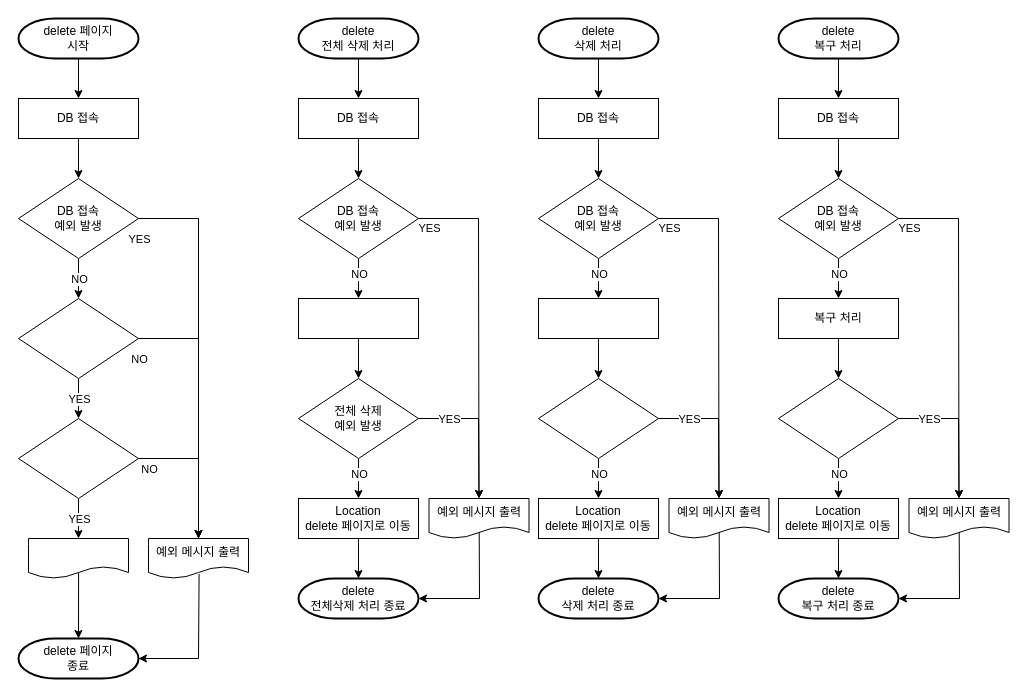
Some shapes in this 1026 by 696 pixel diagram are drawn without their labels. Each missing label, with the centre of its shape:
"복구 예외 발생" belongs at (x=838, y=418).
"삭제 예외 발생" belongs at (x=598, y=418).
"삭제 처리" belongs at (x=598, y=318).
"삭제된 게시글 정보 획득" belongs at (x=78, y=458).
"전체 삭제 처리" belongs at (x=358, y=318).
"파라미터 획득" belongs at (x=78, y=338).
"화면에 출력" belongs at (x=78, y=558).
